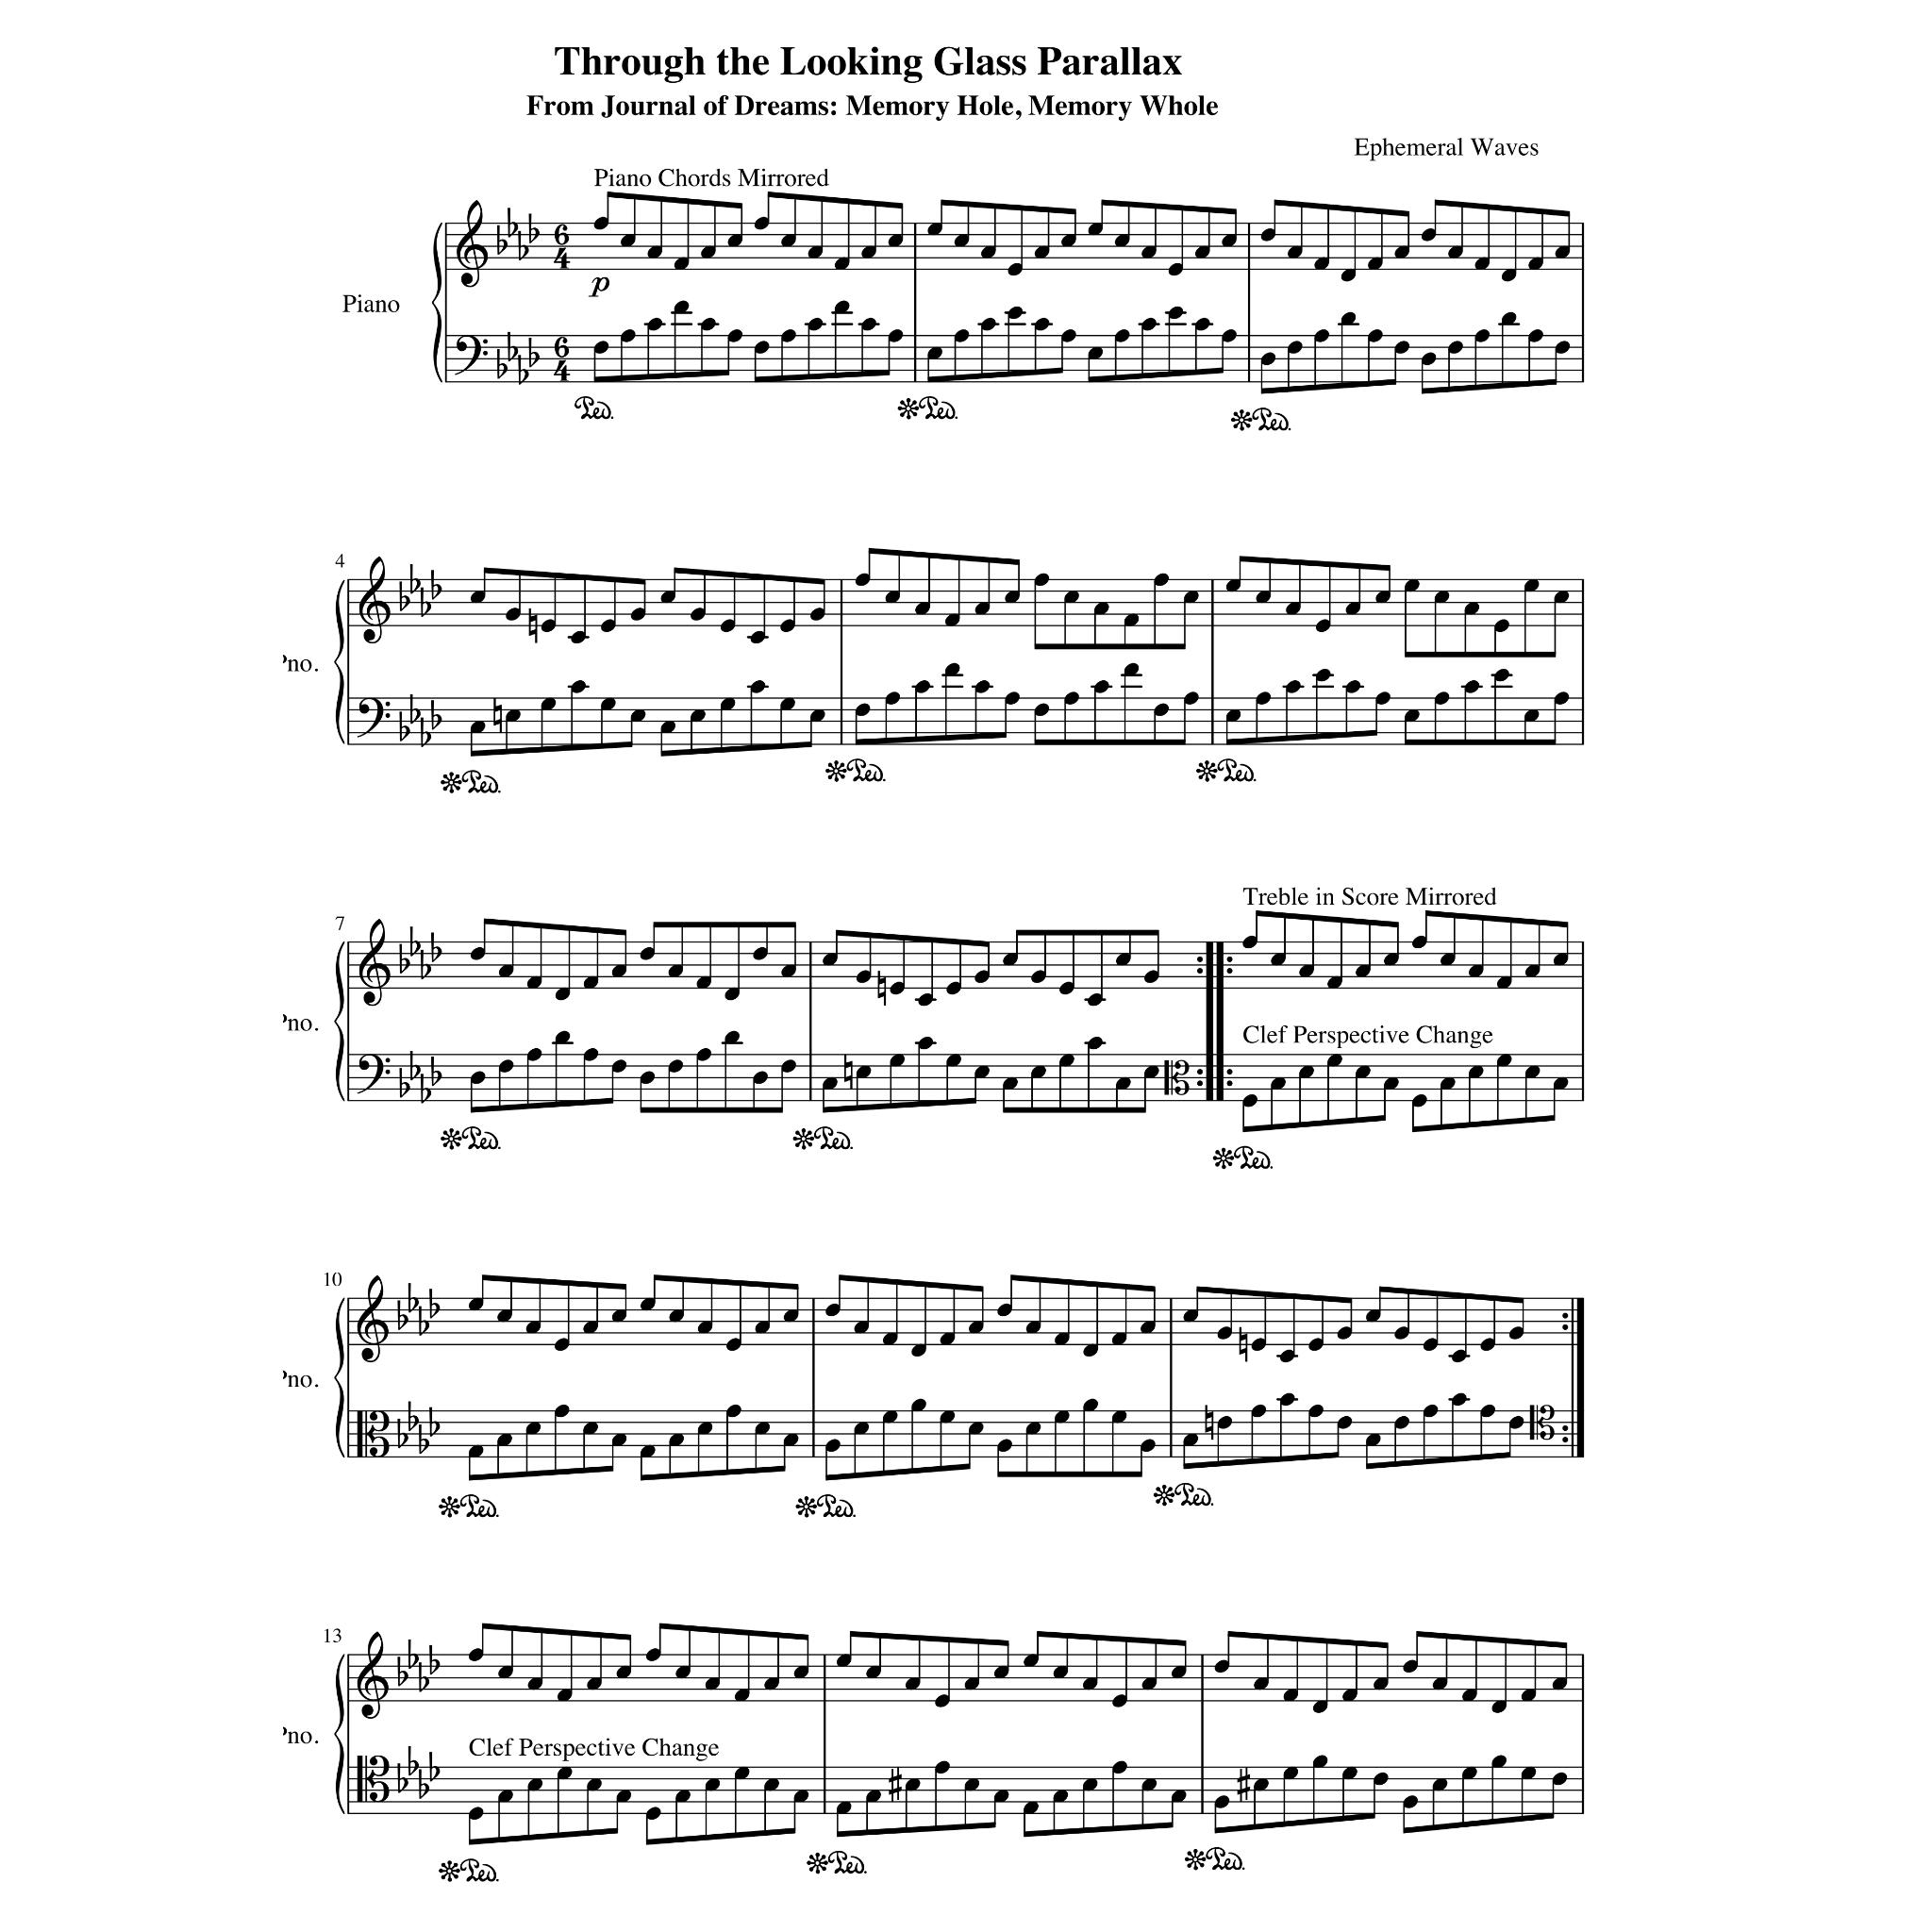brace: (333, 580, 345, 745), (333, 1297, 345, 1460), (333, 1652, 345, 1815), (333, 941, 345, 1102), (432, 223, 442, 384)
fClef: (453, 336, 488, 375), (357, 697, 391, 738), (357, 1054, 391, 1095)
gClef: (456, 200, 488, 288), (359, 556, 391, 644), (359, 918, 391, 1007), (357, 1274, 389, 1362), (357, 1631, 389, 1720)
noteheadBlack: (1313, 329, 1330, 343), (1113, 234, 1131, 248), (1113, 329, 1131, 343), (1553, 246, 1571, 260), (672, 301, 690, 315), (886, 329, 904, 343), (886, 234, 904, 248), (1284, 602, 1302, 616), (1284, 679, 1302, 694), (1169, 1789, 1187, 1803), (1341, 1688, 1359, 1702), (644, 1806, 662, 1821), (1260, 352, 1276, 366), (1141, 246, 1157, 260), (1088, 223, 1104, 237), (1088, 347, 1104, 361), (1194, 246, 1210, 260), (1221, 234, 1237, 248), (1221, 329, 1237, 343), (1168, 306, 1184, 320), (1168, 262, 1184, 276), (1529, 329, 1545, 343), (1502, 311, 1518, 326), (1394, 246, 1410, 260), (1368, 329, 1384, 343), (1474, 329, 1490, 343), (1341, 311, 1357, 326), (1447, 246, 1463, 260), (1421, 352, 1437, 366), (727, 234, 743, 248), (727, 329, 743, 343), (701, 246, 717, 260), (807, 246, 823, 260), (780, 234, 796, 248), (780, 329, 796, 343), (648, 246, 663, 260), (621, 329, 637, 343), (621, 234, 637, 248), (980, 246, 996, 260), (954, 234, 970, 248), (954, 329, 970, 343), (1062, 234, 1077, 248), (1062, 329, 1077, 343), (1033, 246, 1049, 260), (1007, 306, 1023, 320), (1007, 262, 1023, 276), (862, 246, 878, 260), (833, 301, 849, 315), (927, 347, 943, 361), (927, 223, 943, 237), (1226, 579, 1242, 593), (1093, 602, 1109, 616), (1093, 679, 1109, 694), (1033, 573, 1049, 587), (1154, 573, 1169, 587), (1123, 614, 1139, 628), (1523, 579, 1539, 593), (1493, 619, 1509, 633), (1493, 669, 1509, 683), (1315, 619, 1330, 633), (1315, 669, 1330, 683), (1345, 602, 1361, 616), (1345, 679, 1361, 694), (1463, 602, 1479, 616), (1463, 679, 1479, 694), (1403, 579, 1419, 593), (630, 607, 646, 621), (600, 619, 616, 633), (600, 697, 616, 711), (720, 697, 736, 711), (660, 720, 676, 734), (570, 679, 586, 694), (690, 607, 706, 621), (469, 720, 485, 734), (540, 619, 556, 633), (540, 697, 556, 711), (506, 607, 522, 621), (720, 619, 736, 633), (915, 602, 931, 616), (915, 679, 931, 694), (975, 602, 991, 616), (975, 679, 991, 694), (945, 614, 961, 628), (780, 697, 796, 711), (810, 607, 826, 621), (780, 619, 796, 633), (750, 679, 766, 694), (855, 573, 870, 587), (1058, 982, 1074, 996), (1058, 1053, 1074, 1067), (1086, 993, 1102, 1007), (1495, 1053, 1511, 1067), (1327, 1053, 1343, 1067), (610, 1060, 626, 1074), (639, 947, 655, 961), (582, 1047, 598, 1062), (695, 1047, 711, 1062), (724, 987, 740, 1001), (667, 1060, 683, 1074), (469, 947, 485, 961), (525, 1047, 541, 1062), (554, 987, 570, 1001), (497, 1060, 513, 1074), (780, 1060, 796, 1074), (752, 947, 768, 961), (1182, 1309, 1198, 1323), (1251, 1338, 1267, 1352), (1217, 1415, 1233, 1430), (1217, 1325, 1233, 1339), (1024, 1320, 1040, 1334), (1054, 1410, 1070, 1424), (996, 1438, 1012, 1453), (1111, 1410, 1127, 1424), (1139, 1320, 1155, 1334), (1139, 1438, 1155, 1453), (1083, 1398, 1099, 1412), (1479, 1338, 1495, 1352), (1507, 1325, 1523, 1339), (1507, 1415, 1523, 1430), (1336, 1415, 1352, 1430), (1336, 1325, 1352, 1339), (1307, 1338, 1323, 1352), (1422, 1338, 1438, 1352), (1366, 1309, 1382, 1323), (1394, 1325, 1410, 1339), (1394, 1415, 1410, 1430), (610, 1309, 626, 1323), (639, 1297, 655, 1311), (582, 1320, 598, 1334), (697, 1320, 713, 1334), (725, 1338, 741, 1352), (669, 1309, 685, 1323), (467, 1297, 483, 1311), (525, 1320, 541, 1334), (554, 1338, 570, 1352), (495, 1309, 511, 1323), (939, 1410, 955, 1424), (853, 1320, 869, 1334), (911, 1398, 927, 1412), (881, 1410, 897, 1424), (754, 1320, 770, 1334), (968, 1320, 984, 1334), (824, 1438, 840, 1453), (782, 1309, 798, 1323), (1214, 1794, 1230, 1808), (1214, 1660, 1230, 1674), (1283, 1688, 1299, 1702), (1253, 1677, 1269, 1691), (1253, 1778, 1269, 1792), (1053, 1789, 1069, 1803), (1083, 1677, 1099, 1691), (1083, 1778, 1099, 1792), (1141, 1677, 1157, 1691), (1141, 1778, 1157, 1792), (1111, 1760, 1127, 1775), (1520, 1688, 1536, 1702), (1552, 1677, 1568, 1691), (1491, 1753, 1507, 1767), (1373, 1677, 1389, 1691), (1313, 1753, 1329, 1767), (1461, 1688, 1477, 1702), (1403, 1660, 1419, 1674), (1403, 1794, 1419, 1808), (1431, 1677, 1447, 1691), (1431, 1778, 1447, 1792), (616, 1789, 632, 1803), (586, 1778, 602, 1792), (586, 1677, 602, 1691), (704, 1677, 720, 1691), (704, 1778, 720, 1792), (676, 1789, 692, 1803), (467, 1806, 483, 1821), (527, 1677, 543, 1691), (527, 1778, 543, 1792), (556, 1688, 571, 1702), (497, 1789, 513, 1803), (904, 1778, 920, 1792), (904, 1677, 920, 1691), (734, 1688, 750, 1702), (865, 1789, 881, 1803), (964, 1778, 980, 1792), (964, 1677, 980, 1691), (993, 1789, 1008, 1803), (934, 1760, 950, 1775), (793, 1789, 809, 1803), (835, 1652, 851, 1667), (1313, 258, 1330, 271), (1553, 341, 1571, 354), (672, 258, 690, 271), (1169, 1667, 1187, 1679), (1341, 1767, 1359, 1780), (644, 1649, 662, 1661), (1288, 246, 1302, 260), (890, 982, 904, 996), (890, 1053, 904, 1067), (947, 982, 961, 996), (947, 1053, 961, 1067), (918, 993, 932, 1007), (1024, 1652, 1039, 1667), (764, 1677, 778, 1691), (764, 1778, 778, 1792), (1341, 269, 1357, 281), (1260, 228, 1276, 241), (1141, 318, 1157, 331), (1194, 318, 1210, 331), (1502, 269, 1518, 281), (1529, 258, 1545, 271), (1394, 341, 1410, 354), (1368, 258, 1384, 271), (1474, 258, 1490, 271), (1447, 341, 1463, 354), (1421, 228, 1437, 241), (754, 218, 770, 230), (754, 341, 770, 354), (701, 318, 717, 331), (807, 318, 823, 331), (593, 218, 609, 230), (593, 341, 609, 354), (648, 318, 663, 331), (980, 318, 996, 331), (833, 258, 849, 271), (1033, 318, 1049, 331), (862, 318, 878, 331), (1226, 709, 1242, 722), (1184, 692, 1200, 704), (1184, 591, 1200, 603), (1254, 692, 1270, 704), (1254, 591, 1270, 603), (1063, 692, 1079, 704), (1063, 591, 1079, 603), (1033, 704, 1049, 717), (1154, 704, 1169, 717), (1123, 663, 1139, 676), (1523, 709, 1539, 722), (1553, 591, 1569, 603), (1553, 692, 1569, 704), (1375, 692, 1391, 704), (1375, 591, 1391, 603), (1403, 709, 1419, 722), (1433, 591, 1449, 603), (1433, 692, 1449, 704), (630, 709, 646, 722), (660, 591, 676, 603), (690, 709, 706, 722), (469, 591, 485, 603), (570, 632, 586, 644), (506, 709, 522, 722), (885, 692, 901, 704), (885, 591, 901, 603), (1005, 591, 1021, 603), (1005, 692, 1021, 704), (945, 663, 961, 676), (810, 709, 826, 722), (750, 632, 766, 644), (855, 704, 870, 717), (1242, 1095, 1258, 1108), (1242, 936, 1258, 948), (1143, 1065, 1159, 1077), (1270, 1077, 1286, 1090), (1299, 964, 1315, 977), (1299, 1065, 1315, 1077), (1270, 954, 1286, 966), (1030, 971, 1046, 984), (1030, 1065, 1046, 1077), (1003, 1077, 1019, 1090), (1003, 954, 1019, 966), (1115, 954, 1131, 966), (1115, 1077, 1131, 1090), (1143, 971, 1159, 984), (1086, 1037, 1102, 1049), (1523, 1065, 1539, 1077), (1523, 964, 1539, 977), (1552, 954, 1568, 966), (1552, 1077, 1568, 1090), (1495, 977, 1511, 989), (1382, 1077, 1398, 1090), (1382, 954, 1398, 966), (1327, 977, 1343, 989), (1353, 964, 1369, 977), (1353, 1065, 1369, 1077), (1467, 964, 1483, 977), (1467, 1065, 1483, 1077), (1410, 936, 1426, 948), (1410, 1095, 1426, 1108), (1438, 954, 1454, 966), (1438, 1077, 1454, 1090), (610, 964, 626, 977), (639, 1072, 655, 1085), (582, 977, 598, 989), (695, 977, 711, 989), (667, 964, 683, 977), (469, 1072, 485, 1085), (525, 977, 541, 989), (554, 1031, 570, 1044), (497, 964, 513, 977), (724, 1031, 740, 1044), (855, 971, 870, 984), (855, 1065, 870, 1077), (975, 971, 991, 984), (975, 1065, 991, 1077), (780, 964, 796, 977), (752, 1072, 768, 1085), (823, 1077, 839, 1090), (823, 954, 839, 966), (1182, 1433, 1198, 1445), (1251, 1405, 1267, 1417), (1024, 1422, 1040, 1435), (1054, 1332, 1070, 1345), (996, 1304, 1012, 1316), (1111, 1332, 1127, 1345), (1083, 1345, 1099, 1357), (1479, 1405, 1495, 1417), (1451, 1350, 1467, 1362), (1451, 1394, 1467, 1407), (1279, 1350, 1295, 1362), (1279, 1394, 1295, 1407), (1307, 1405, 1323, 1417), (1422, 1405, 1438, 1417), (1366, 1433, 1382, 1445), (610, 1433, 626, 1445), (639, 1445, 655, 1458), (582, 1422, 598, 1435), (697, 1422, 713, 1435), (669, 1433, 685, 1445), (467, 1445, 483, 1458), (525, 1422, 541, 1435), (554, 1405, 570, 1417), (495, 1433, 511, 1445), (939, 1332, 955, 1345), (853, 1422, 869, 1435), (725, 1405, 741, 1417), (911, 1345, 927, 1357), (881, 1332, 897, 1345), (968, 1422, 984, 1435), (754, 1422, 770, 1435), (824, 1304, 840, 1316), (782, 1433, 798, 1445), (1283, 1767, 1299, 1780), (1053, 1667, 1069, 1679), (1111, 1695, 1127, 1707), (1520, 1767, 1536, 1780), (1552, 1773, 1568, 1785), (1491, 1700, 1507, 1713), (1373, 1773, 1389, 1785), (1313, 1700, 1329, 1713), (1461, 1767, 1477, 1780), (616, 1667, 632, 1679), (676, 1667, 692, 1679), (467, 1649, 483, 1661), (556, 1767, 571, 1780), (497, 1667, 513, 1679), (865, 1667, 881, 1679), (993, 1667, 1008, 1679), (934, 1695, 950, 1707), (793, 1667, 809, 1679), (734, 1767, 750, 1780), (835, 1801, 851, 1813), (1288, 341, 1302, 354), (918, 1037, 932, 1049), (1024, 1801, 1039, 1813)
